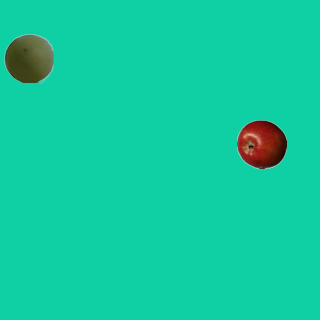Apple Braeburn: (236, 119, 286, 169)
Grape White 4: (3, 33, 53, 83)
